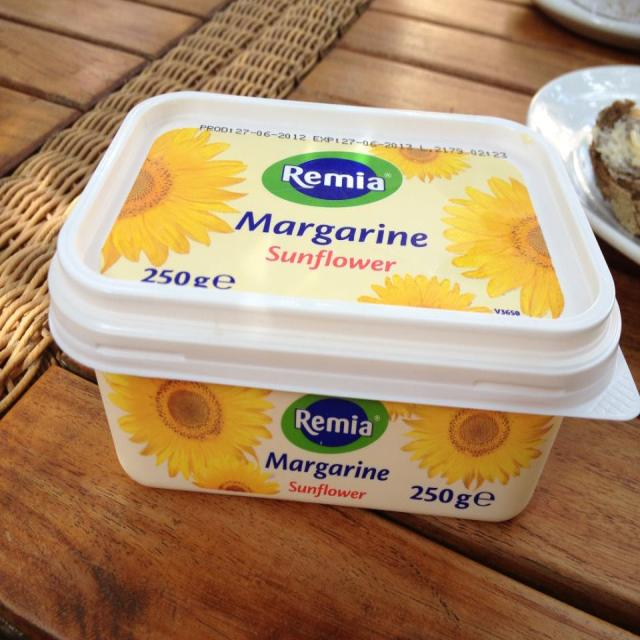plastic: (58, 88, 638, 531)
